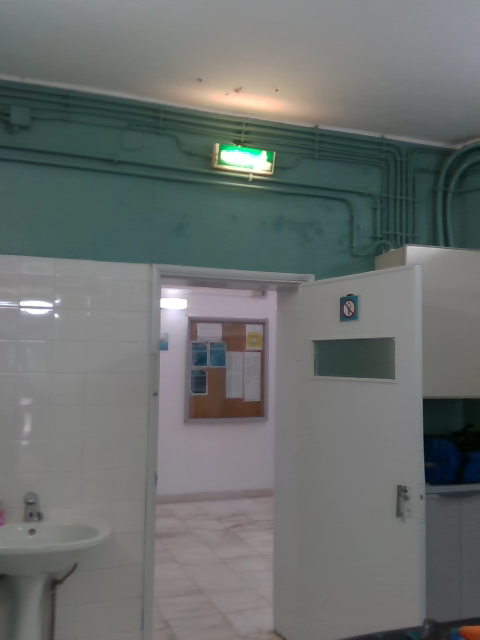open: (140, 263, 427, 639)
